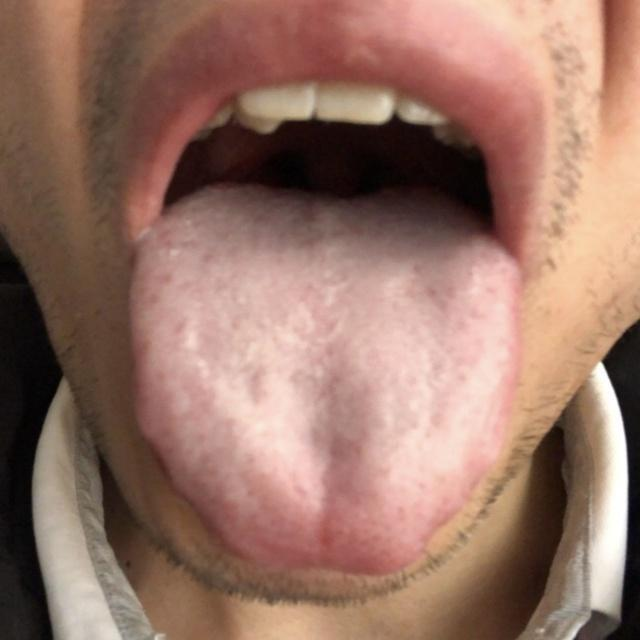baitaishe: (128, 181, 524, 577)
chihenshe: (131, 406, 234, 543)
